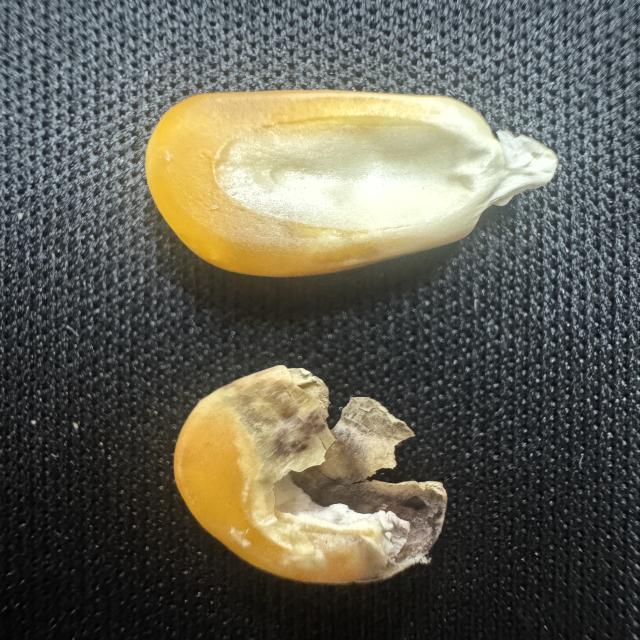Bad-Seed: (166, 354, 448, 597)
Good-Seed: (125, 80, 570, 294)
